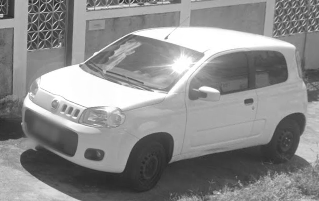car: (22, 27, 308, 193)
